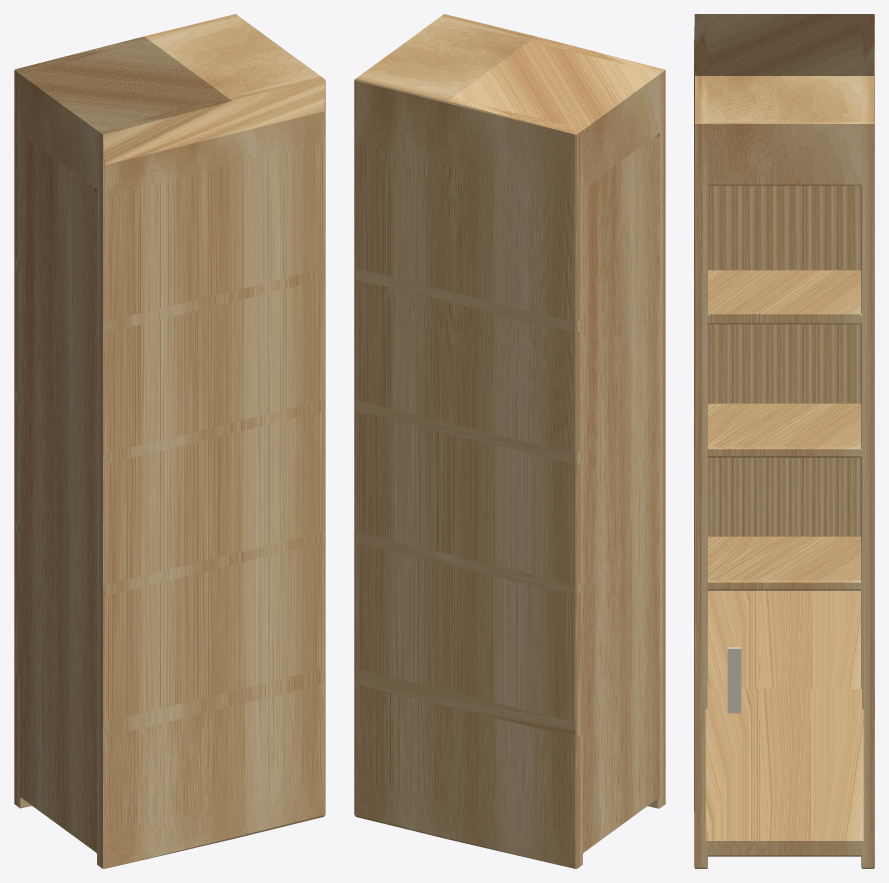
The model's file is Closet3.fbx.
3 renders of one model, left to right at view 1: azimuth 30°, elevation 25°; view 2: azimuth 150°, elevation 25°; view 3: azimuth 270°, elevation 25°, orthographic.
Visible parts, largest first — view 1: шкаф; view 2: шкаф; view 3: шкаф, ручка1235.
Boxes of the visible parts, x1=… form: шкаф: x1=14, y1=14, x2=325, y2=868; шкаф: x1=354, y1=14, x2=665, y2=868; шкаф: x1=694, y1=14, x2=874, y2=868; ручка1235: x1=727, y1=647, x2=741, y2=713.
Bounding box in the file's own units: 601 × 1878 × 412.
Materials: 2 (1 with a texture image).
